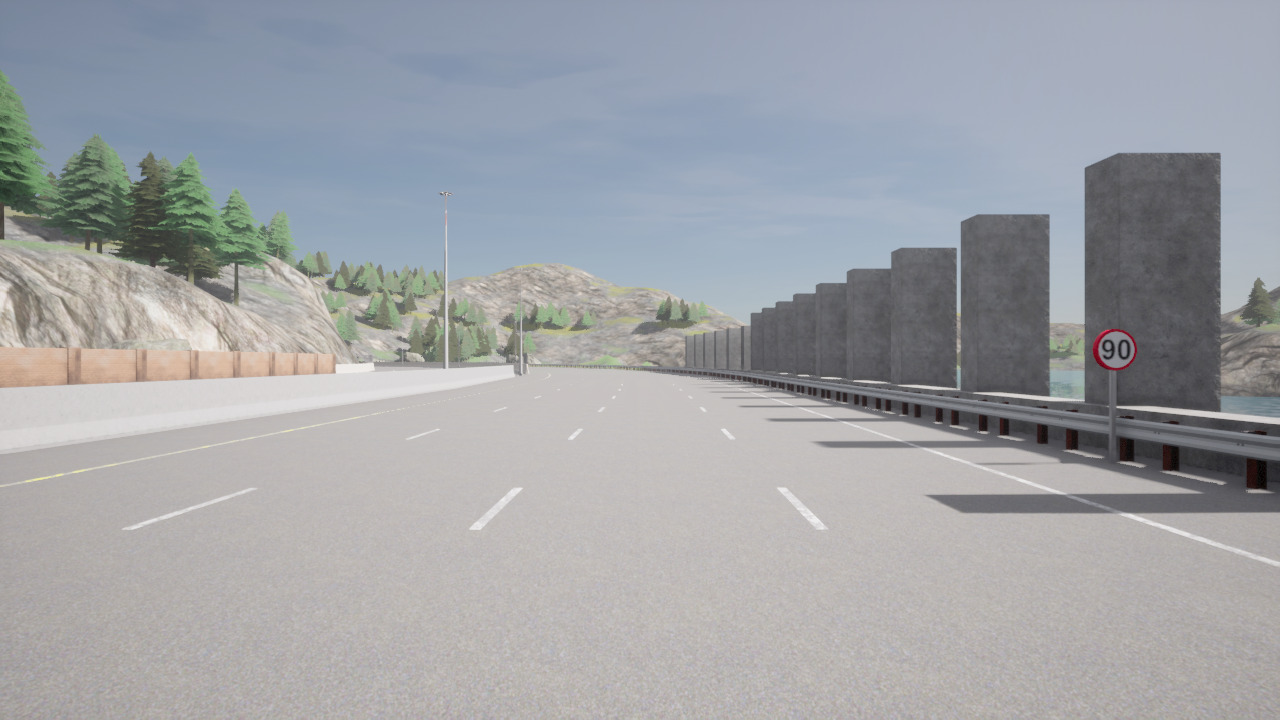sl90: (1092, 328, 1139, 372)
